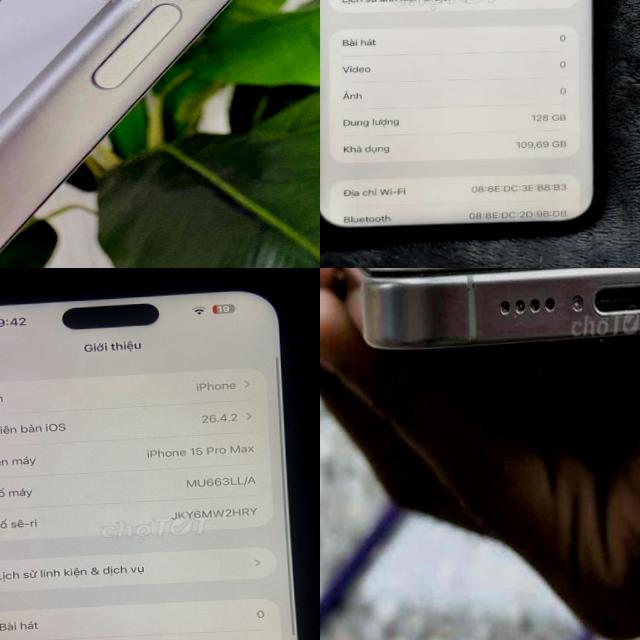gen_12_13: (320, 0, 623, 254)
gen_15: (0, 270, 320, 640), (333, 268, 640, 380)
gen_17: (0, 0, 233, 249)
scratch: (462, 271, 478, 297)
